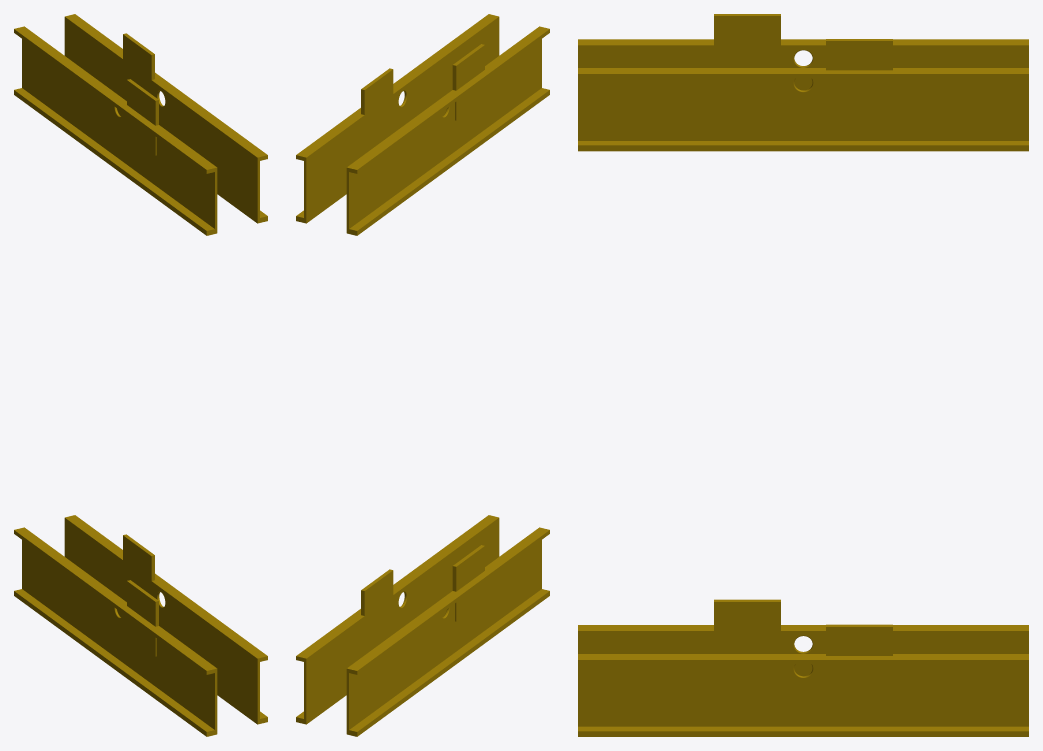
The model's file is counterweight_frame.obj.
3 renders of one model, left to right at view 1: azimuth 30°, elevation 25°; view 2: azimuth 150°, elevation 25°; view 3: azimuth 270°, elevation 25°, orthographic. The views are drawn at different scales.
Visible parts, largest first — view 1: Part9, Part9_1, Part9_3, Part9_2; view 2: Part9, Part9_1, Part9_3, Part9_2; view 3: Part9_2, Part9_3, Part9_1, Part9.
Part boxes in pixels (x1,y1,x2,y2): Part9: [14, 26, 217, 235]; Part9_1: [14, 527, 217, 736]; Part9_3: [64, 515, 267, 724]; Part9_2: [64, 14, 267, 223]; Part9: [346, 26, 549, 235]; Part9_1: [346, 527, 549, 736]; Part9_3: [296, 515, 499, 724]; Part9_2: [296, 14, 499, 223]; Part9_2: [578, 39, 1028, 151]; Part9_3: [578, 624, 1028, 736]; Part9_1: [578, 599, 1028, 676]; Part9: [578, 14, 1028, 90].
Bounding box in the file's own units: 169 × 1566 × 925.
